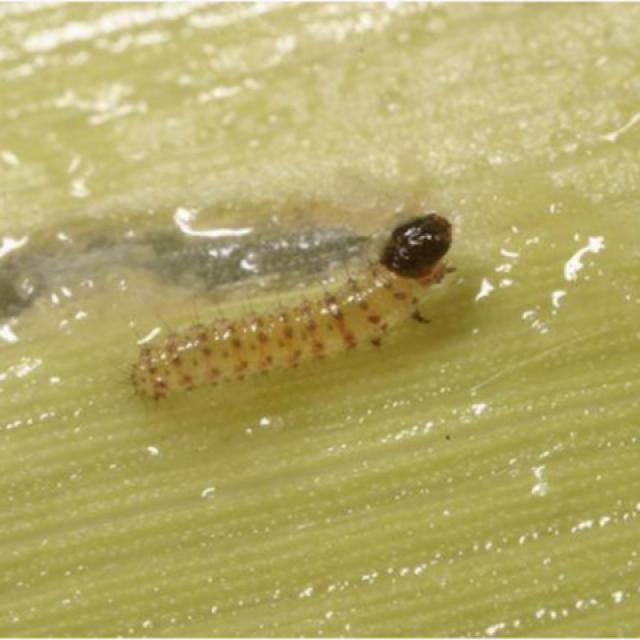cornborer-Larva-: (116, 205, 466, 412)
